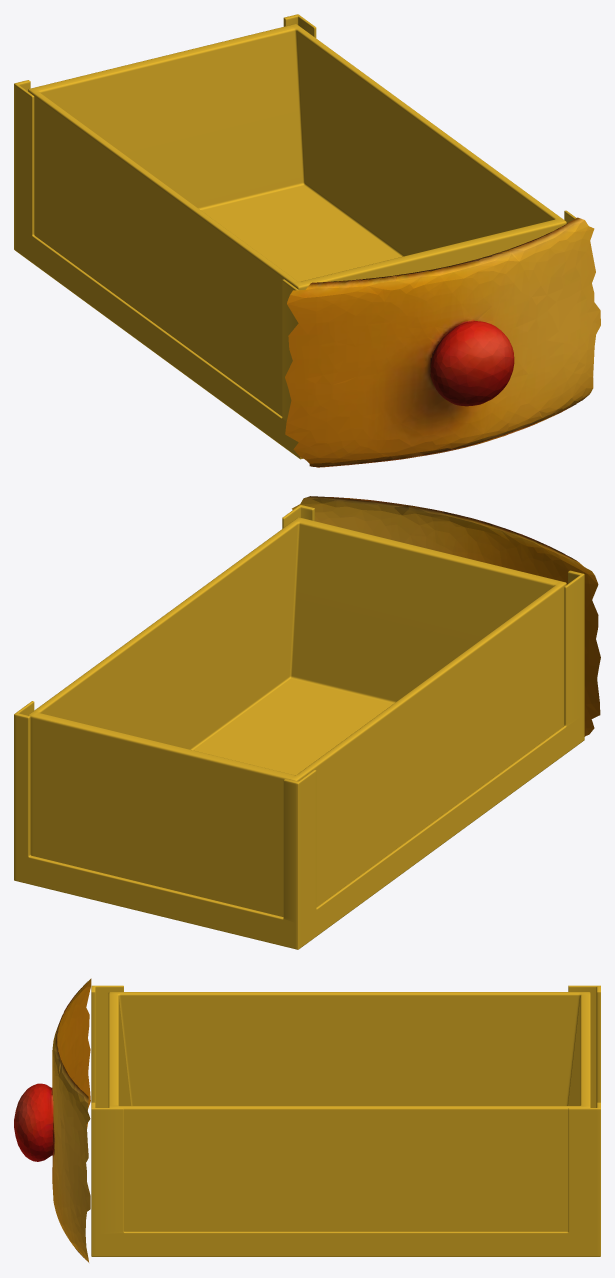
The model's file is drawer.glb.
3 renders of one model, top to bottom at view 1: azimuth 30°, elevation 25°; view 2: azimuth 150°, elevation 25°; view 3: azimuth 270°, elevation 25°, orthographic. The views are drawn at different scales.
Visible parts, largest first — view 1: prefab_drawer_body_1, source_front_cap_0; view 2: prefab_drawer_body_1, source_front_cap_0; view 3: prefab_drawer_body_1, source_front_cap_0.
Part boxes in pixels (<box>): prefab_drawer_body_1: <box>14,14,576,459</box>; source_front_cap_0: <box>285,217,600,467</box>; prefab_drawer_body_1: <box>14,504,584,949</box>; source_front_cap_0: <box>292,496,600,736</box>; prefab_drawer_body_1: <box>91,985,600,1256</box>; source_front_cap_0: <box>14,978,91,1262</box>.
Bounding box in the file's own units: 0.174 × 0.0974 × 0.3147.
Materials: 2 (1 with a texture image).
